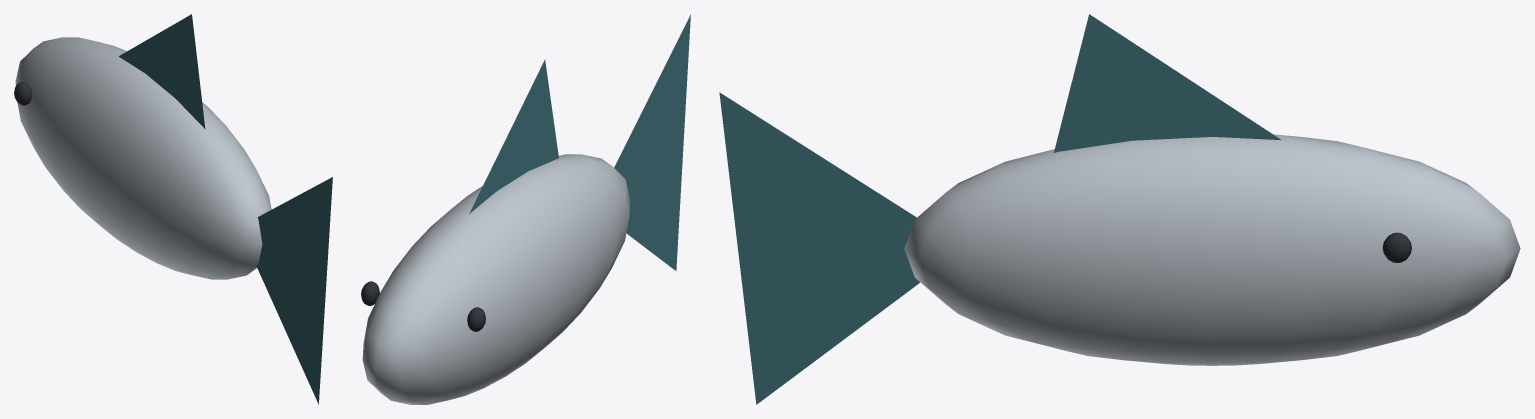
Rendered from mc_fish.glb.
The picture shows the model from 3 angles, left to right: view 1: azimuth 30°, elevation 25°; view 2: azimuth 150°, elevation 25°; view 3: azimuth 270°, elevation 25°; orthographic projection. The views are drawn at different scales.
Parts seen in each view (by area): view 1: mc_fish__Geometry; view 2: mc_fish__Geometry; view 3: mc_fish__Geometry.
Part boxes in pixels (box(x1,y1,x2,y2)): mc_fish__Geometry: box(14, 14, 332, 404); mc_fish__Geometry: box(361, 14, 690, 404); mc_fish__Geometry: box(719, 14, 1520, 404).
Size of the model in its own units: 0.144 by 0.35 by 0.65.
